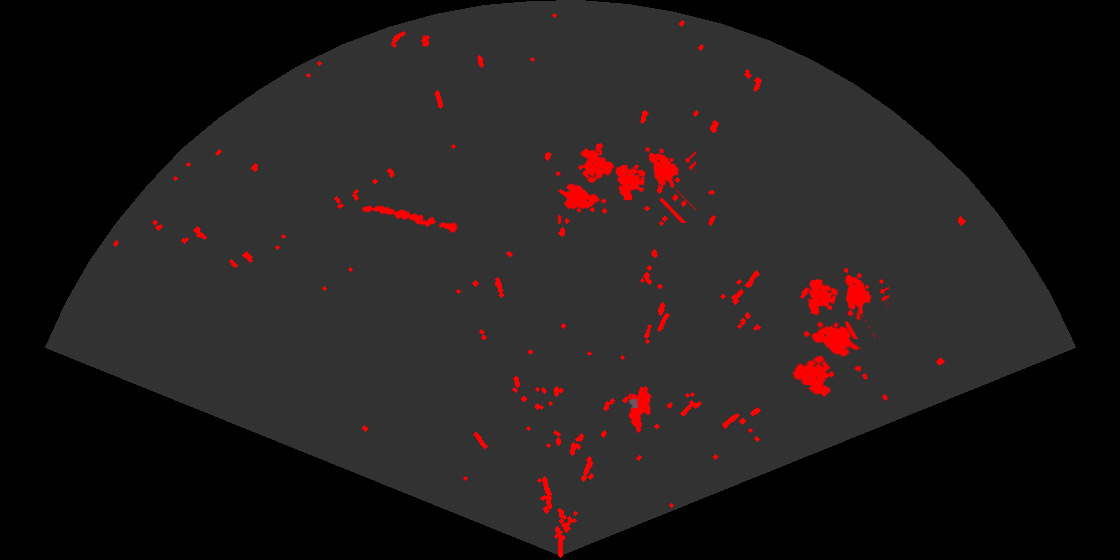AUV: (627, 384, 653, 435)
cage: (791, 304, 861, 399), (614, 146, 696, 223), (806, 266, 889, 339), (556, 146, 616, 224)
chain: (360, 204, 460, 234)
